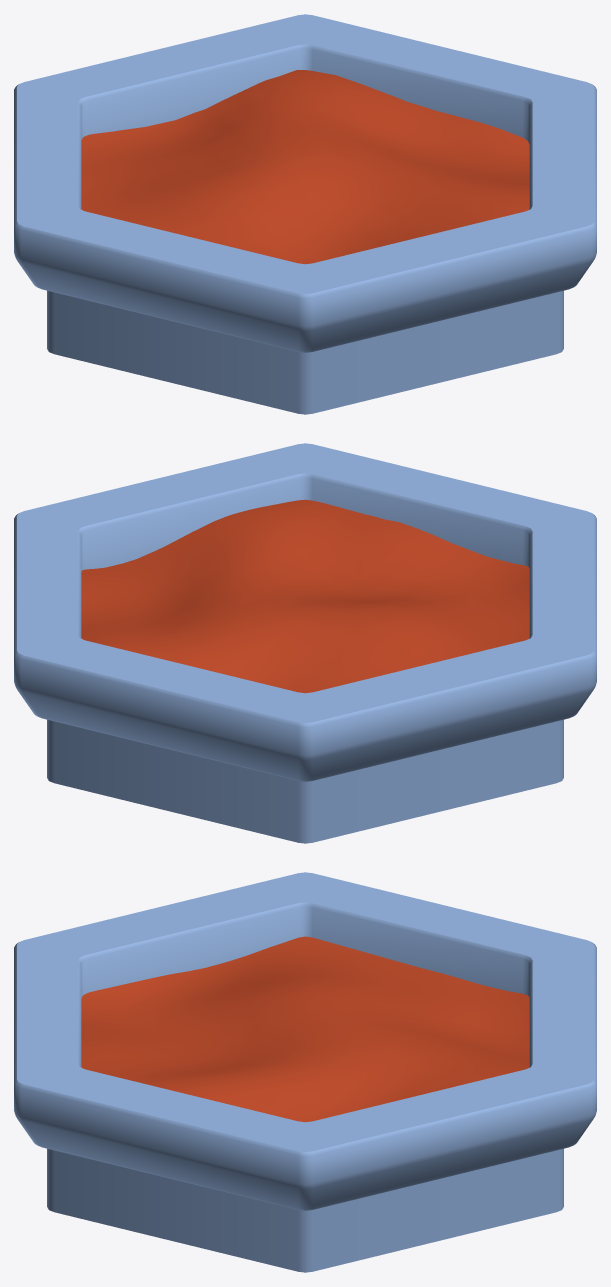
The model's file is Bac_Beton_01.FBX.
The picture shows the model from 3 angles, top to bottom: view 1: azimuth 30°, elevation 25°; view 2: azimuth 150°, elevation 25°; view 3: azimuth 270°, elevation 25°; orthographic projection.
Visible parts, largest first — view 1: Bac_Beton_01_LOD0; view 2: Bac_Beton_01_LOD0; view 3: Bac_Beton_01_LOD0.
Part boxes in pixels (x1,y1,x2,y2): Bac_Beton_01_LOD0: (14,14,596,414); Bac_Beton_01_LOD0: (14,443,596,843); Bac_Beton_01_LOD0: (14,872,596,1272).
Bounding box in the file's own units: 224 × 50 × 195.
